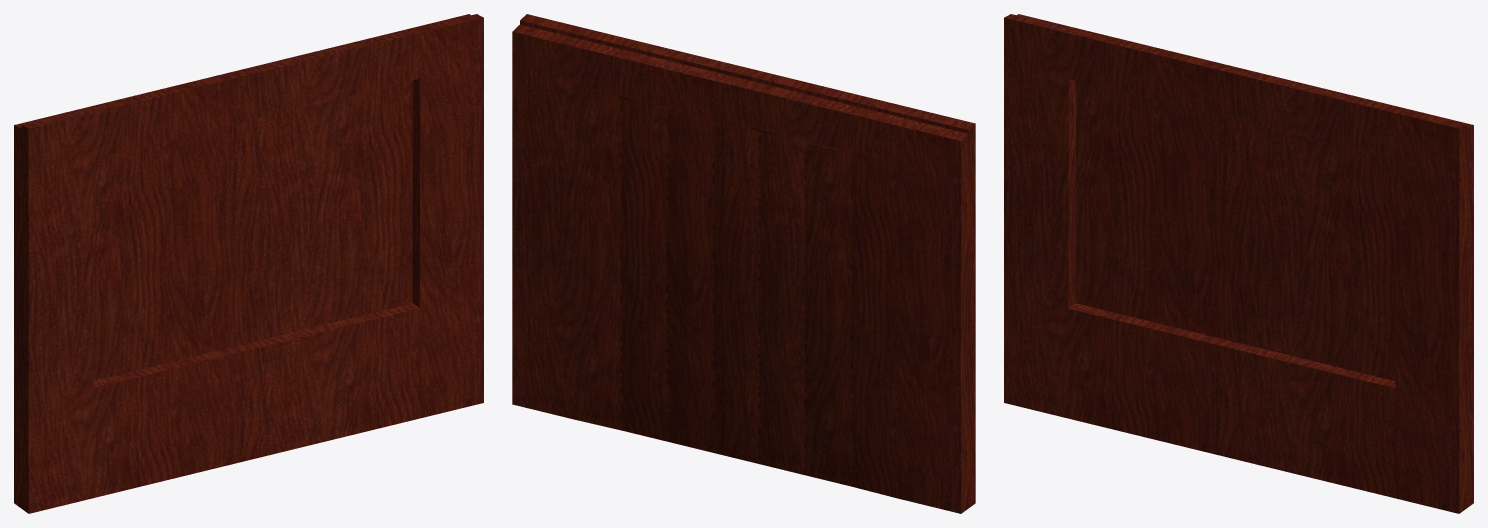
The model's file is StableDoorMahoganyLOWER01.fbx.
3 renders of one model, left to right at view 1: azimuth 30°, elevation 25°; view 2: azimuth 150°, elevation 25°; view 3: azimuth 330°, elevation 25°, orthographic.
Visible parts, largest first — view 1: default; view 2: default; view 3: default.
Boxes of the visible parts, x1,y1,x2,y2 form: default: [14, 14, 483, 513]; default: [512, 14, 975, 513]; default: [1004, 14, 1473, 513].
Bounding box in the file's own units: 113 × 91.3 × 6.29.
